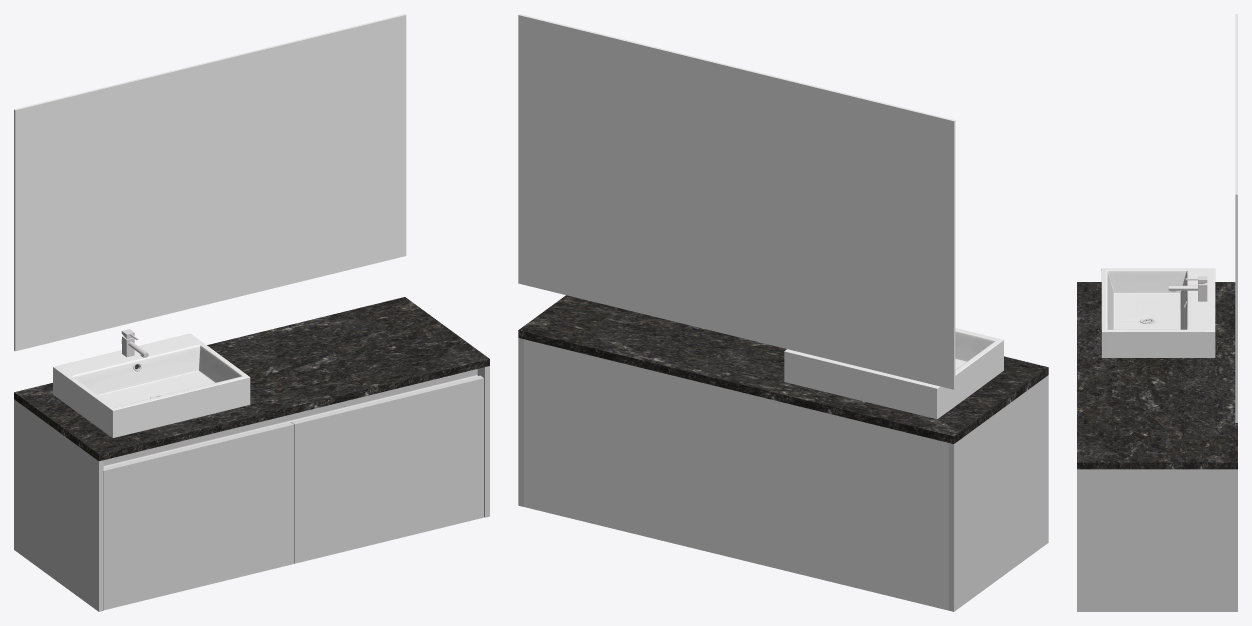
Rendered from FREYA-final.glb.
3 views of the same model, side by side, from view 1: azimuth 30°, elevation 25°; view 2: azimuth 150°, elevation 25°; view 3: azimuth 270°, elevation 25° (orthographic). The views are drawn at different scales.
Visible parts, largest first — view 1: FREYA; view 2: FREYA; view 3: FREYA.
Boxes of the visible parts, x1,y1,x2,y2 form: FREYA: [14, 14, 489, 611]; FREYA: [518, 14, 1048, 611]; FREYA: [1077, 14, 1237, 611].
Bounding box in the file's own units: 1.17 × 1.26 × 0.4388.
Materials: 7 (2 with a texture image).
